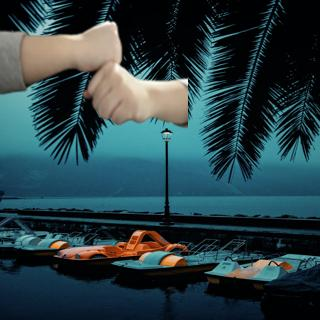CAREFUL: (23, 16, 180, 131)
